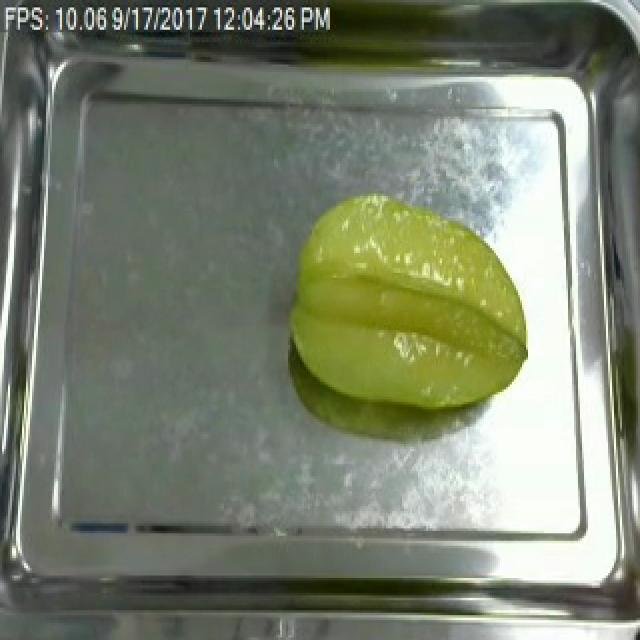fruit: (274, 184, 536, 419)
